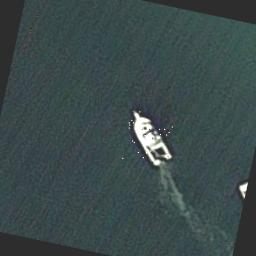boat: (120, 108, 178, 168)
